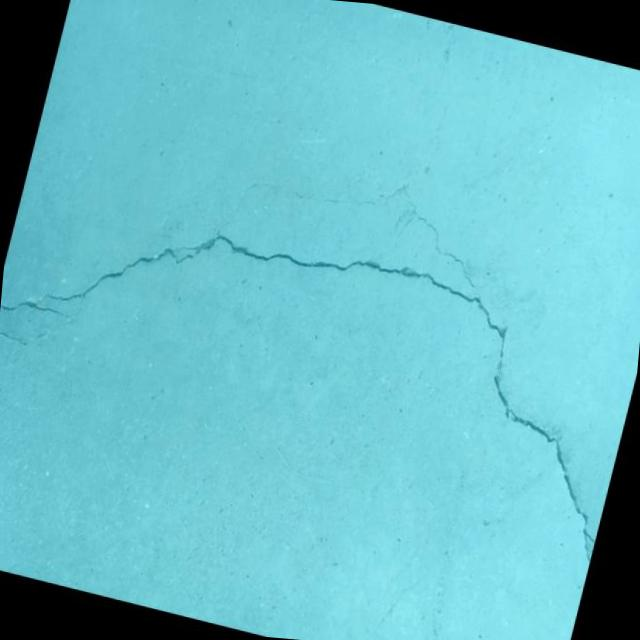crack: (0, 170, 640, 565), (220, 141, 498, 288), (0, 328, 29, 347)
